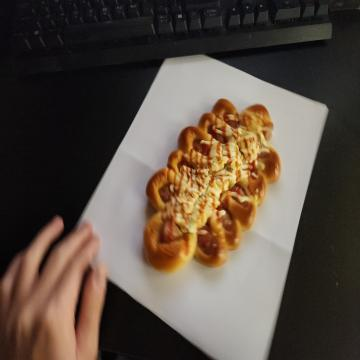pizza_bread: (143, 99, 282, 274)
